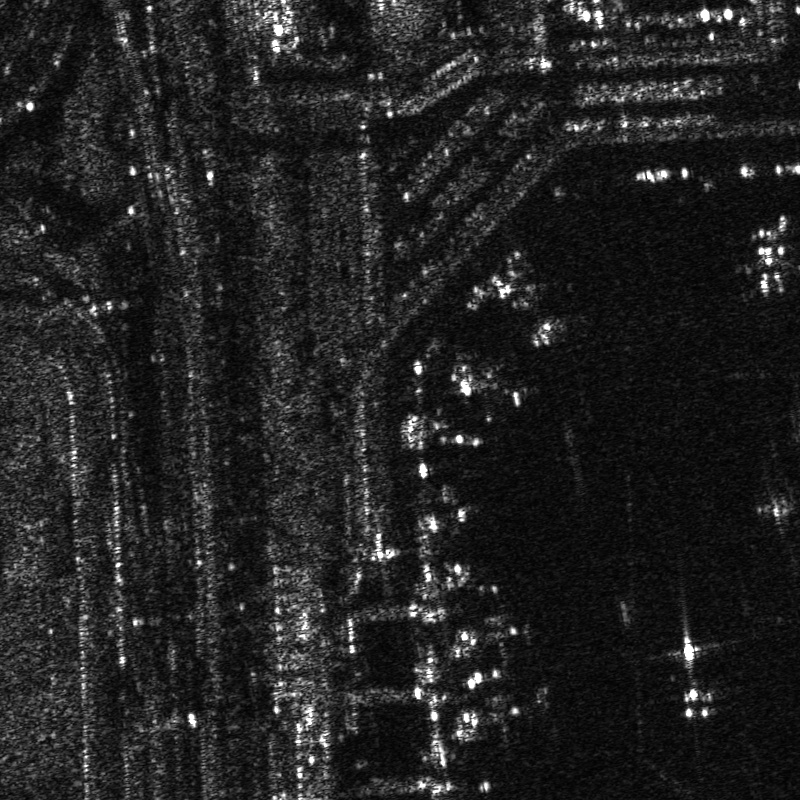A220: (441, 346, 550, 429), (456, 674, 555, 747), (443, 603, 538, 669)
Boeing737: (641, 621, 737, 733), (725, 207, 799, 305)
